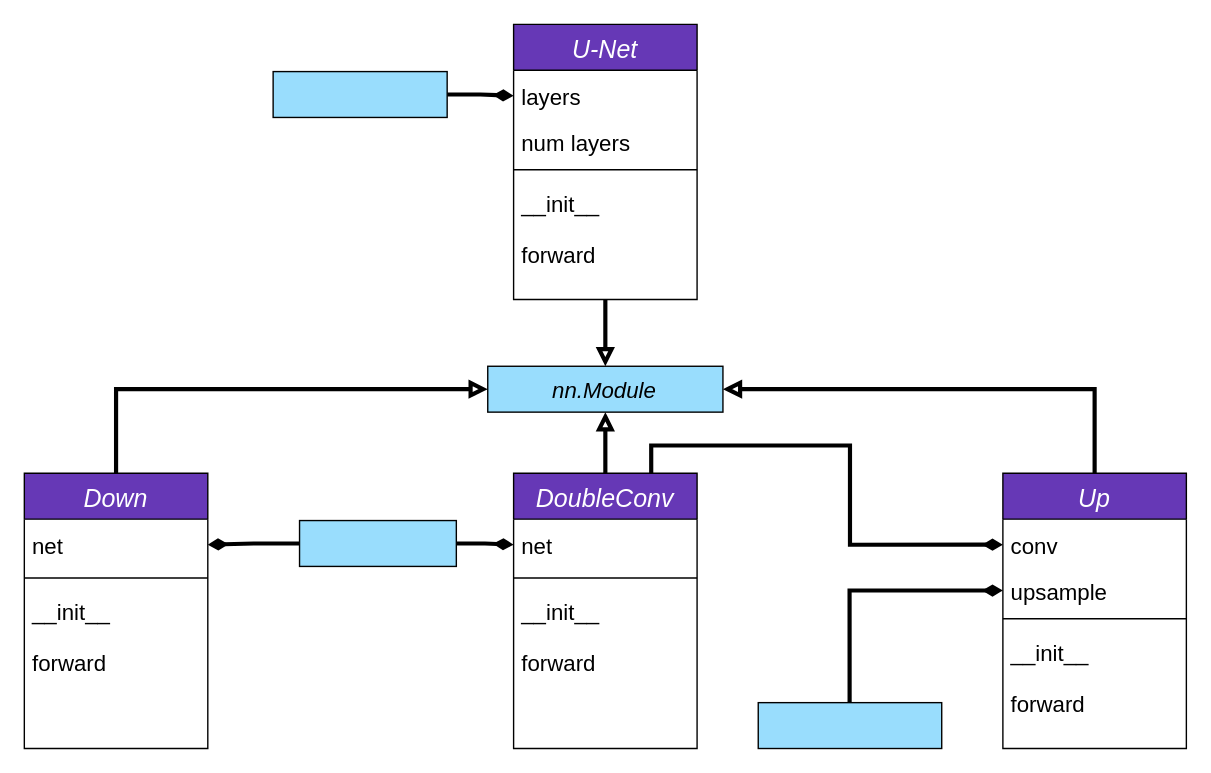
The diagram is 1211 pixels wide and 773 high, and some of its shapes have lost their labels. The centre of each missing label's shape, as x and y in pixels:
"nn.Conv.Transpose2d" goes at (849,725).
"nn.ModuleList" goes at (359,93).
"nn.Sequential" goes at (377,542).
